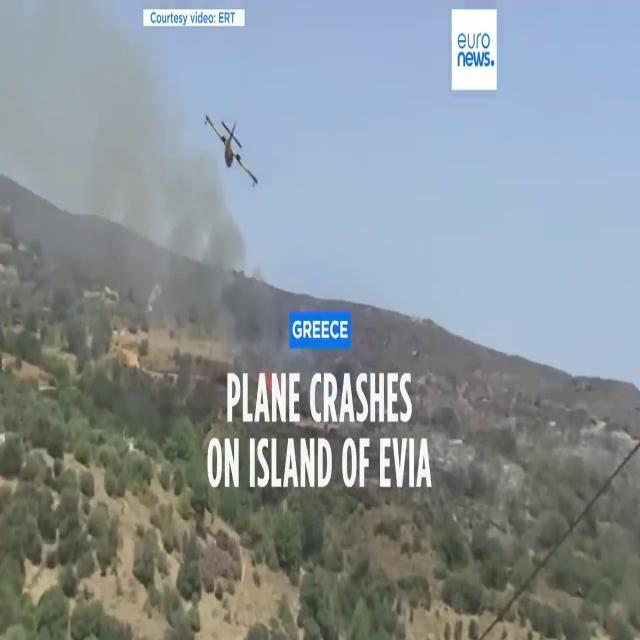Smoke: (0, 4, 253, 370)
